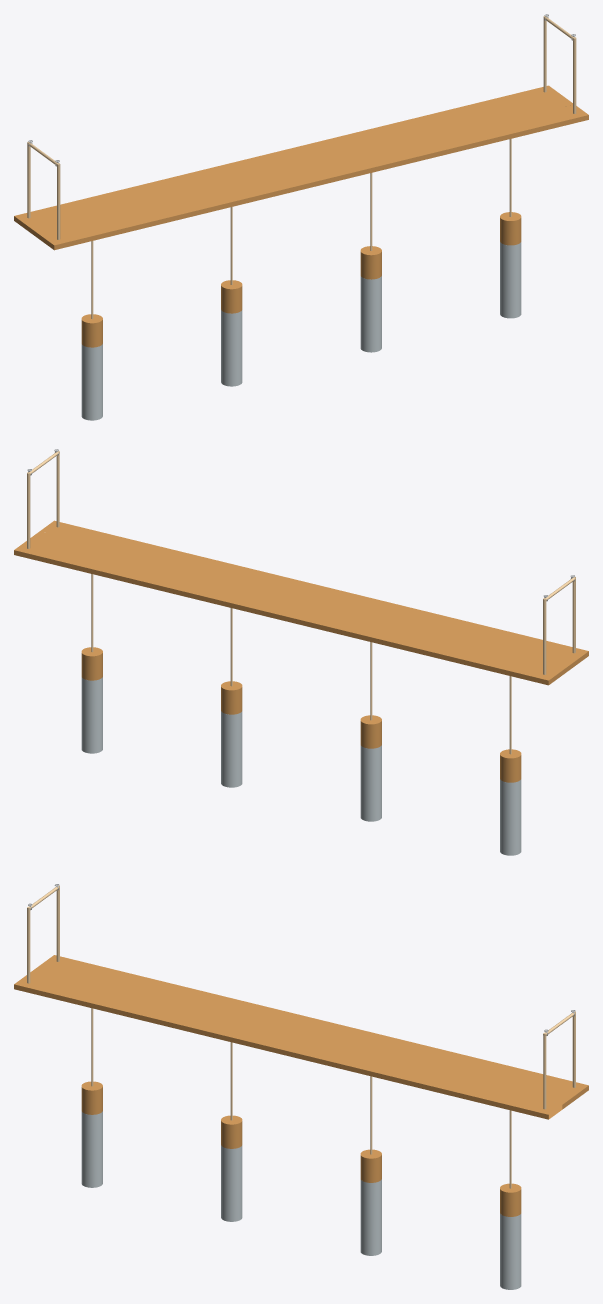
Rendered from Counter light.fbx.
3 renders of one model, top to bottom at view 1: azimuth 30°, elevation 25°; view 2: azimuth 150°, elevation 25°; view 3: azimuth 330°, elevation 25°, orthographic.
Parts seen in each view (by area): view 1: Counter light; view 2: Counter light; view 3: Counter light.
Boxes of the visible parts, <box> form: Counter light: <box>14,14,588,420</box>; Counter light: <box>14,449,588,855</box>; Counter light: <box>14,884,588,1289</box>.
Bounding box in the file's own units: 23000 × 11379 × 3000.
